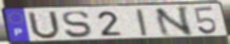2: (96, 10, 125, 37)
5: (192, 6, 218, 35)
I: (134, 8, 150, 37)
N: (153, 5, 195, 38)
S: (61, 10, 93, 40)
U: (26, 10, 63, 41)
